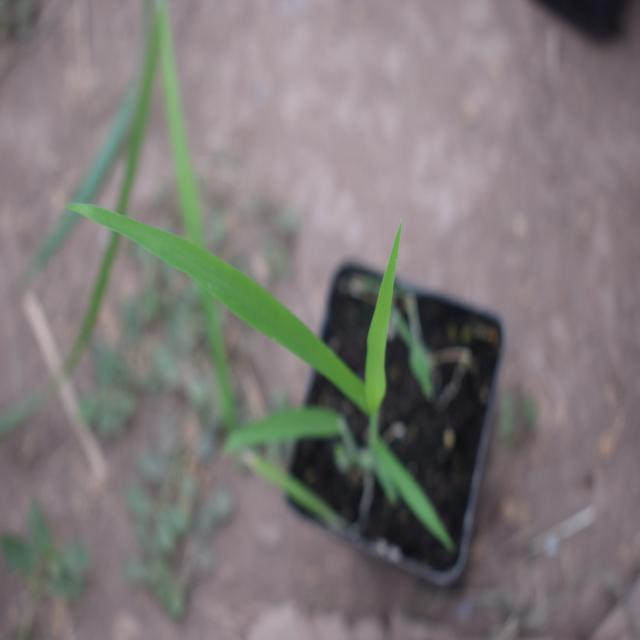crabgrass: (116, 205, 406, 477)
